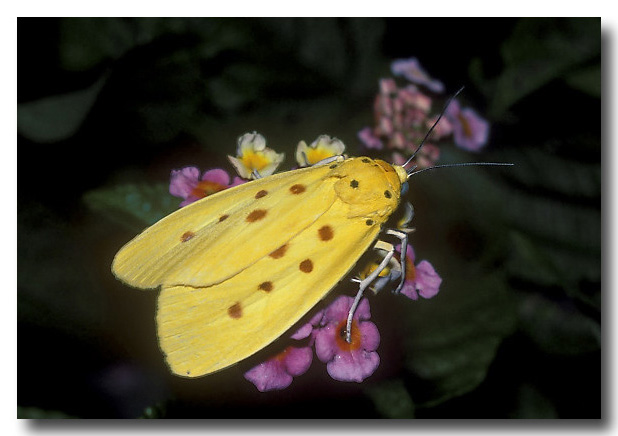Agape chloropyga: (105, 82, 521, 378)
moth: (107, 84, 523, 380)
